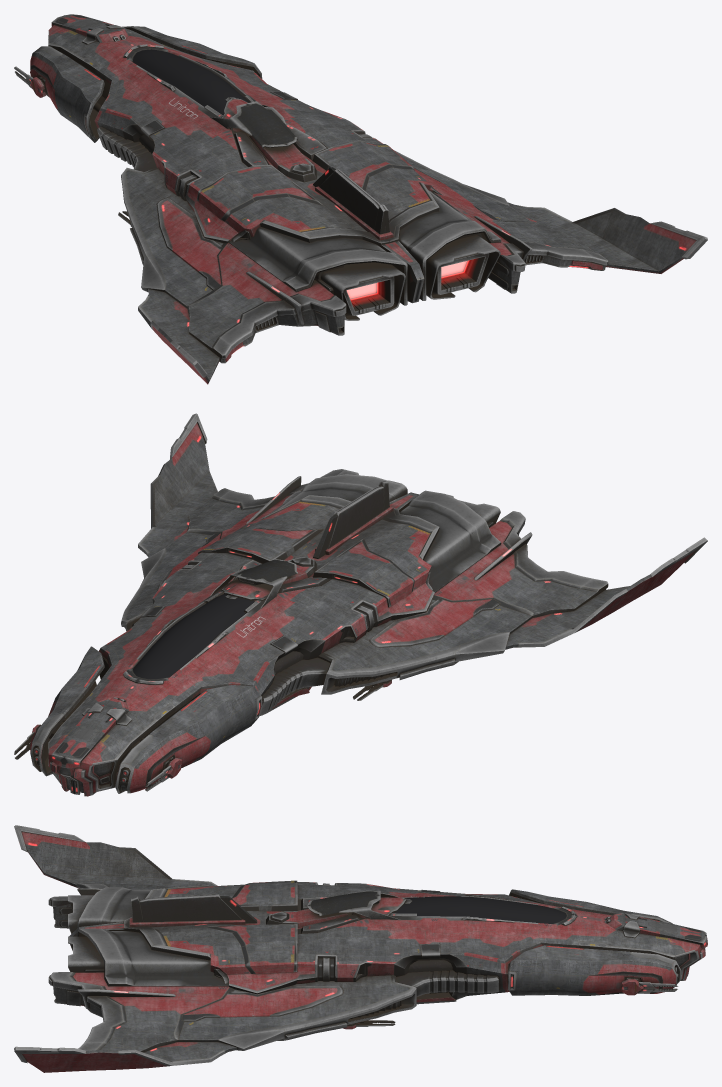
File: free_spaceship_unitron.glb
The picture shows the model from 3 angles, top to bottom: view 1: azimuth 30°, elevation 25°; view 2: azimuth 150°, elevation 25°; view 3: azimuth 270°, elevation 25°; orthographic projection. The views are drawn at different scales.
Parts seen in each view (by area): view 1: Spaceship; view 2: Spaceship; view 3: Spaceship.
Boxes of the visible parts, x1,y1,x2,y2 form: Spaceship: [14, 14, 707, 384]; Spaceship: [14, 413, 707, 796]; Spaceship: [14, 825, 707, 1072].
Bounding box in the file's own units: 20.67 × 3.93 × 26.97.
Materials: 2 (2 with a texture image).
